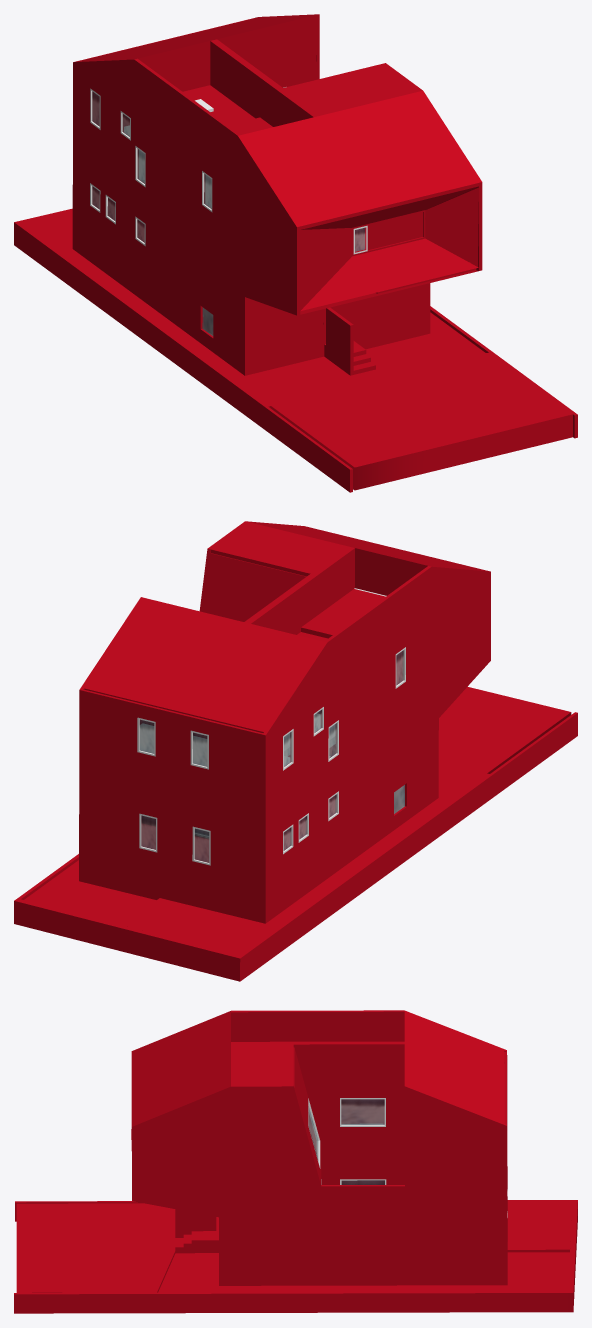
File: asset.glb
The picture shows the model from 3 angles, top to bottom: view 1: azimuth 30°, elevation 25°; view 2: azimuth 150°, elevation 25°; view 3: azimuth 270°, elevation 25°; orthographic projection. The views are drawn at different scales.
Parts seen in each view (by area): view 1: 3D_FACADE_BLACK, 3D_FIRST FLOOR, 3D_FACADE_REFLECTIVE, 3D_SURROUNDING CONTEXT, 3D_WALL, 3D_WINDOW FRAMES, 3d_Glass, 3D_TURF, 3D_FACADE_REFLECTIVE.001, 3D_FLOOR, Windows frames, 3D_FACADE_WHITE; view 2: 3D_FACADE_BLACK, 3D_FIRST FLOOR, 3D_SURROUNDING CONTEXT, 3D_FACADE_WHITE, 3D_TURF, 3d_Glass, 3D_FLOOR, 3D_WINDOW FRAMES, Windows frames, 3D_WALL; view 3: 3D_FACADE_BLACK, 3D_FIRST FLOOR, 3D_SURROUNDING CONTEXT, 3D_FACADE_WHITE, 3D_TURF, 3d_Glass, Windows frames.
Part boxes in pixels (<box>): 3D_FACADE_BLACK: <box>72,14,482,363</box>; 3D_FIRST FLOOR: <box>31,212,572,490</box>; 3D_FACADE_REFLECTIVE: <box>300,186,478,314</box>; 3D_SURROUNDING CONTEXT: <box>14,208,577,492</box>; 3D_WALL: <box>141,18,316,91</box>; 3D_WINDOW FRAMES: <box>210,44,309,126</box>; 3d_Glass: <box>92,91,423,251</box>; 3D_TURF: <box>366,312,485,369</box>; 3D_FACADE_REFLECTIVE.001: <box>425,187,478,266</box>; 3D_FLOOR: <box>124,85,476,293</box>; Windows frames: <box>90,87,425,336</box>; 3D_FACADE_WHITE: <box>210,39,282,91</box>; 3D_FACADE_BLACK: <box>79,521,490,911</box>; 3D_FIRST FLOOR: <box>79,686,571,950</box>; 3D_SURROUNDING CONTEXT: <box>14,712,577,981</box>; 3D_FACADE_WHITE: <box>203,553,317,756</box>; 3D_TURF: <box>24,860,156,924</box>; 3d_Glass: <box>139,650,403,862</box>; 3D_FLOOR: <box>140,588,386,766</box>; 3D_WINDOW FRAMES: <box>254,552,354,634</box>; Windows frames: <box>137,647,405,865</box>; 3D_WALL: <box>142,551,424,838</box>; 3D_FACADE_BLACK: <box>131,1010,507,1272</box>; 3D_FIRST FLOOR: <box>16,1201,571,1292</box>; 3D_SURROUNDING CONTEXT: <box>14,1200,577,1313</box>; 3D_FACADE_WHITE: <box>293,1041,404,1184</box>; 3D_TURF: <box>158,1252,569,1292</box>; 3d_Glass: <box>308,1099,384,1184</box>; Windows frames: <box>308,1098,507,1217</box>.
Bounding box in the file's own units: 8.07 × 8.79 × 20.69.
6 materials, 1 textured.
